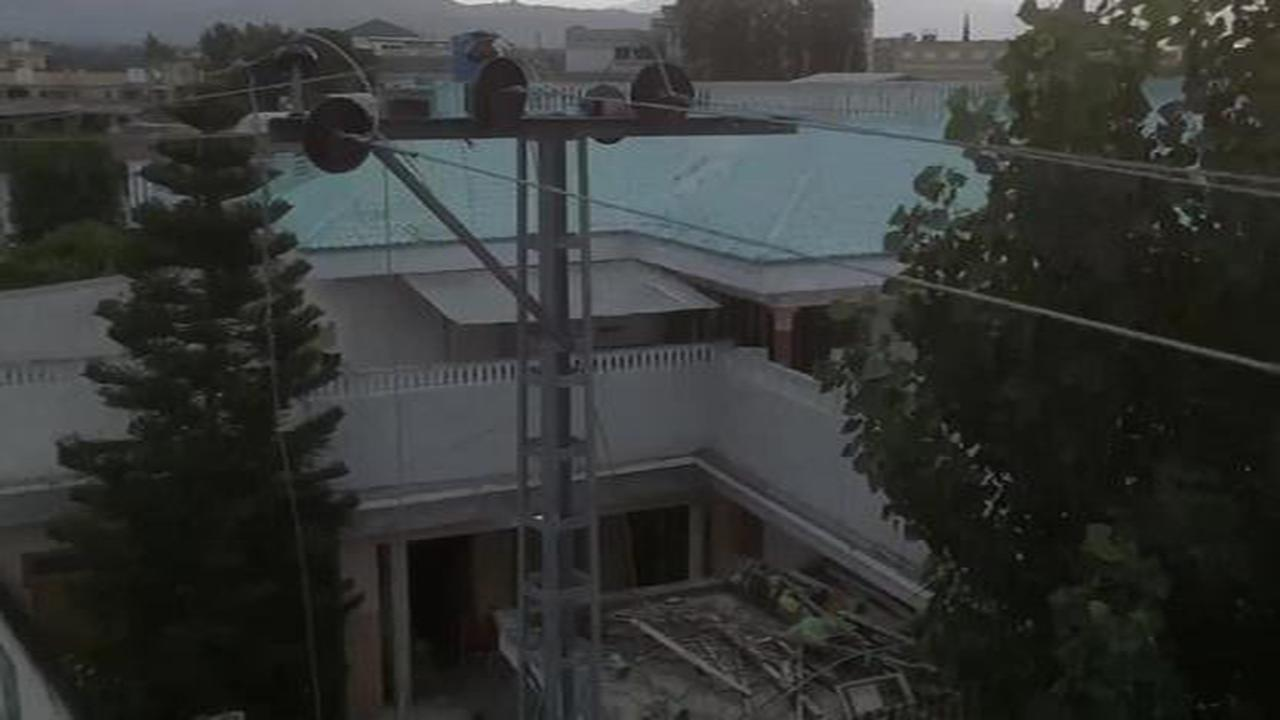insulator_disc: (300, 92, 379, 170), (628, 58, 698, 136), (468, 56, 532, 134), (575, 86, 633, 148)
insulator_pin: (272, 29, 323, 76)
